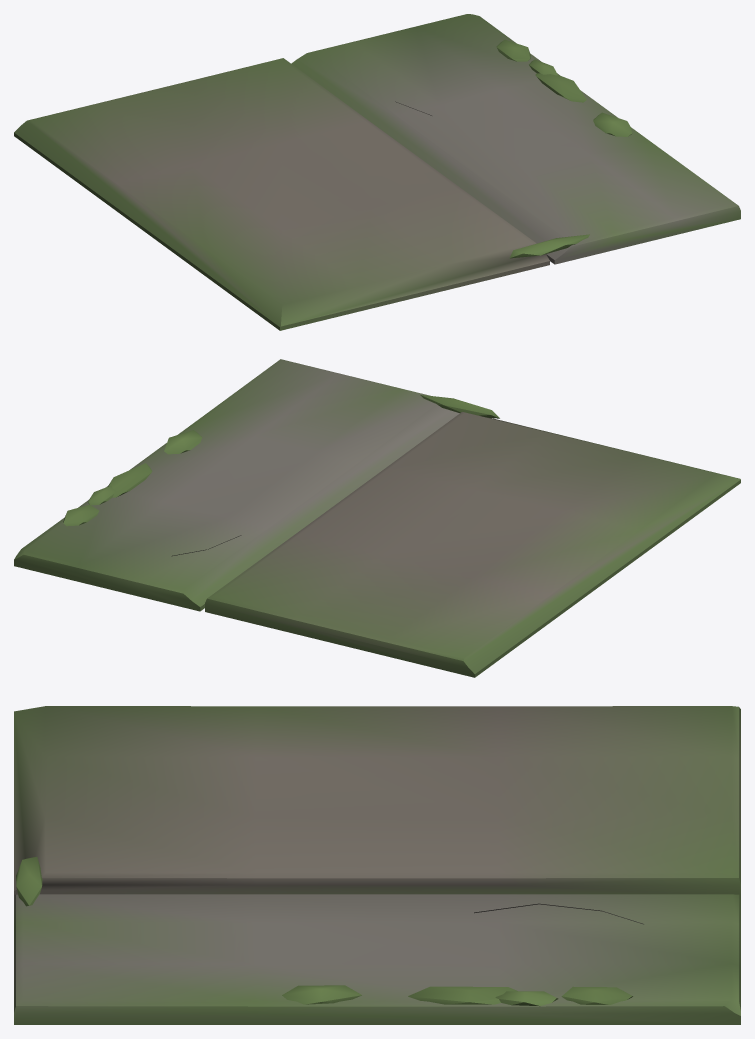
Rendered from ruins-floor-c-v2.glb.
3 renders of one model, top to bottom at view 1: azimuth 30°, elevation 25°; view 2: azimuth 150°, elevation 25°; view 3: azimuth 270°, elevation 25°, orthographic. The views are drawn at different scales.
Parts seen in each view (by area): view 1: 0_ruins_floor_c; view 2: 0_ruins_floor_c; view 3: 0_ruins_floor_c.
Boxes of the visible parts, x1=… form: 0_ruins_floor_c: x1=14, y1=14, x2=740, y2=330; 0_ruins_floor_c: x1=14, y1=359, x2=740, y2=677; 0_ruins_floor_c: x1=14, y1=706, x2=740, y2=1024.
Size of the model in its own units: 1.98 by 0.08 by 1.98.
